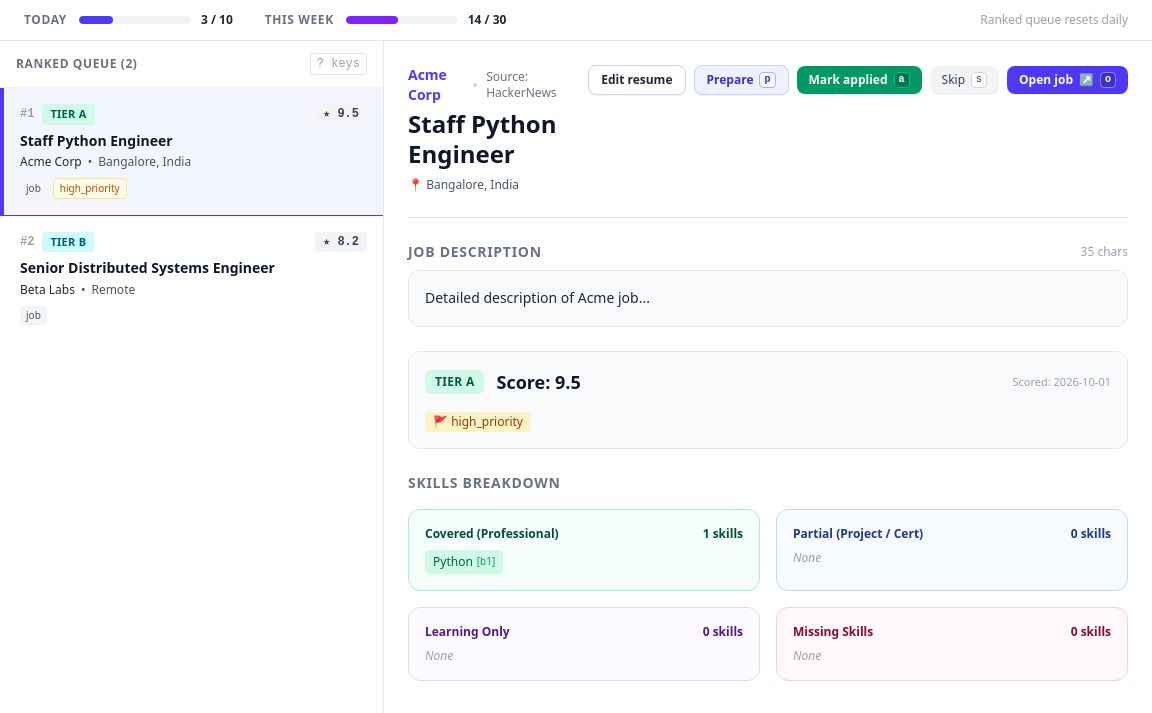
Test: TodayPage Actions & Keyboard Controls (Phase 5c-1b) › shows error toast when prepareJob fails with backend message
Click the button with aria-label "prepare application drafts" at (741, 80), box x1=694 y1=65 x2=788 y2=95
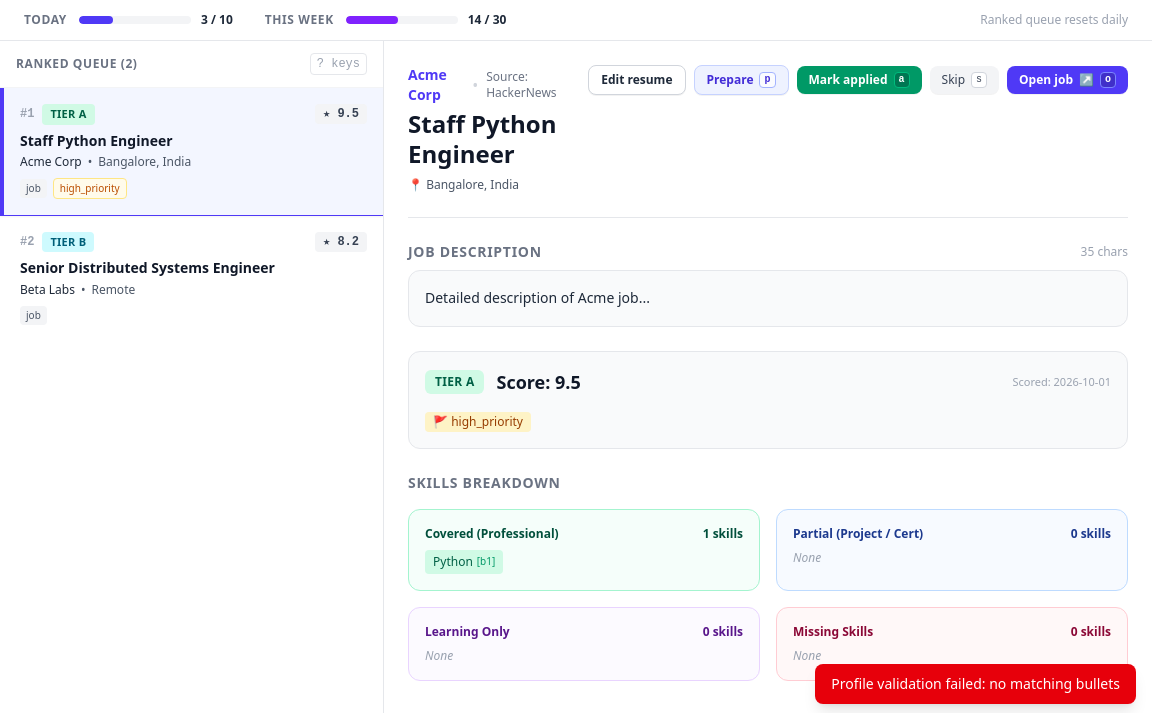
Result: the message reads "Profile validation failed: no matching bullets" at x1=831 y1=674 x2=1120 y2=693
